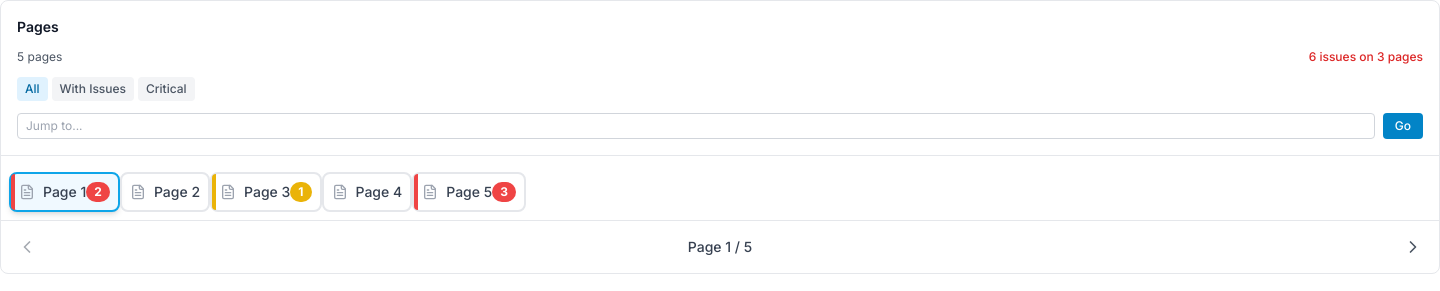
Test case: PdfPageNavigator › Filtering › filters to show only pages with critical issues
Click the button "Critical" at coordinates (166, 89), box top-left (138, 77), bottom-right (195, 101)
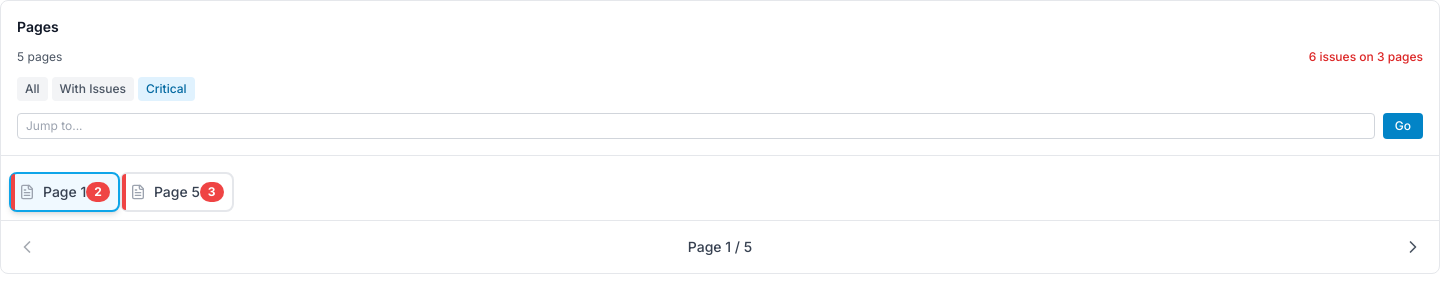
Result: the button "Page 2" is gone
Result: the button "Page 3" is gone
Result: the button "Page 4" is gone
